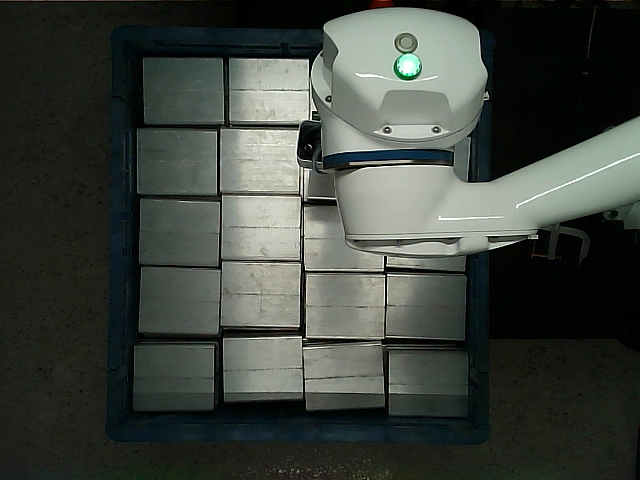green_light: (394, 53, 421, 80)
